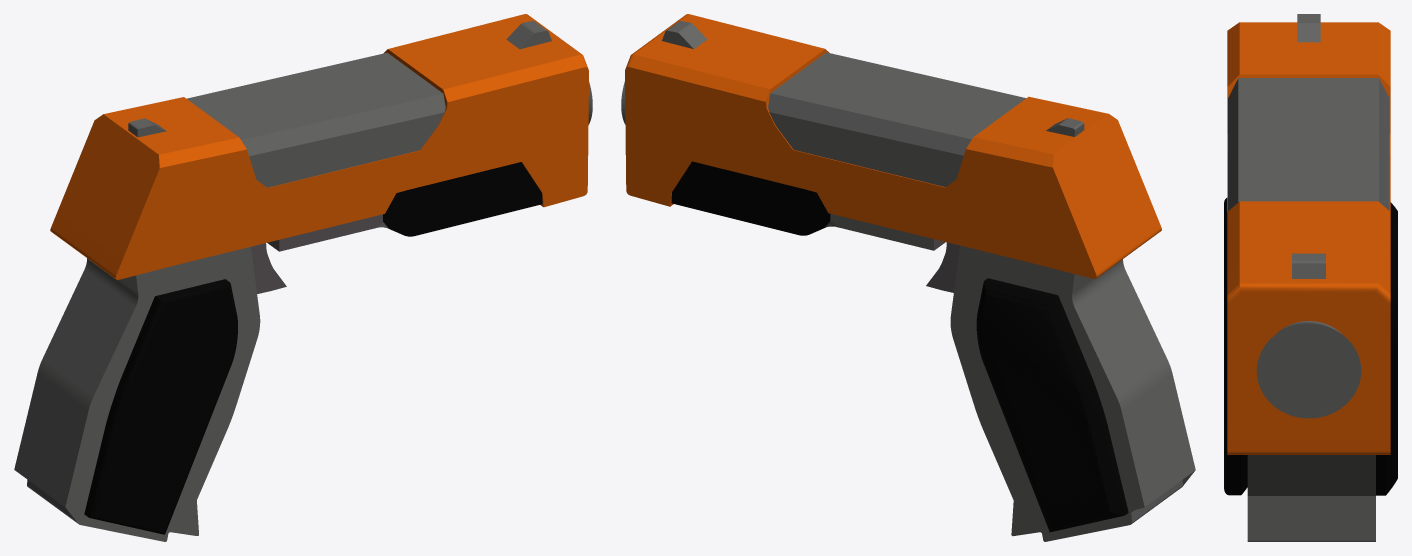
Rendered from spaceGun_Corrected.fbx.
3 views of the same model, side by side, from view 1: azimuth 30°, elevation 25°; view 2: azimuth 150°, elevation 25°; view 3: azimuth 270°, elevation 25° (orthographic). The views are drawn at different scales.
Visible parts, largest first — view 1: Cube.007; view 2: Cube.007; view 3: Cube.007.
Part boxes in pixels (x1,y1,x2,y2): Cube.007: (14,14,592,541); Cube.007: (621,14,1195,541); Cube.007: (1224,14,1397,541).
Bounding box in the file's own units: 634 × 461 × 144.
